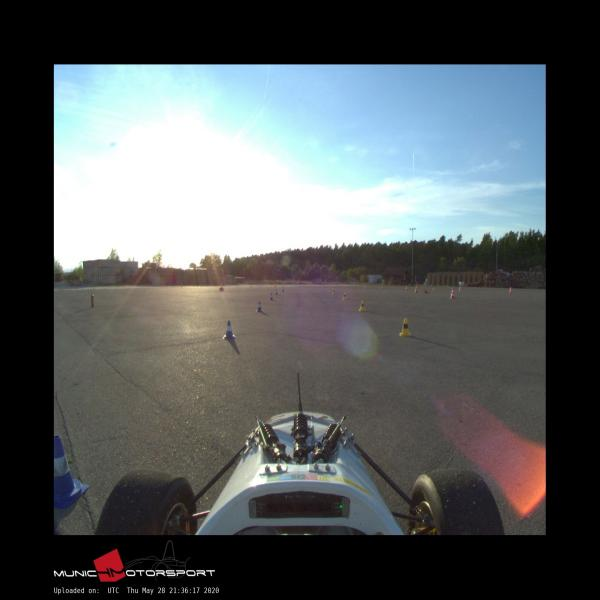blue_cone: (54, 435, 90, 509), (222, 320, 235, 339), (256, 301, 264, 312), (270, 292, 274, 300)
large_orange_cone: (450, 288, 456, 299)
yellow_cone: (399, 318, 412, 337), (359, 301, 366, 311), (343, 292, 346, 300)
